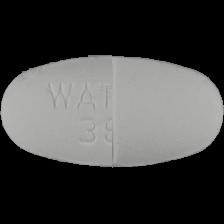16590-112: (0, 0, 224, 224)
